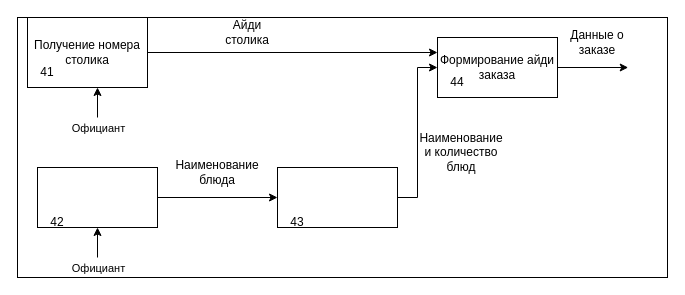
Some shapes in this 685 by 295 pixel diagram are drawn without their labels. The box of each missing label's shape, as (x1, y1, x2, y2) in pixels:
Получение выбранного блюда: (36, 166, 158, 228)
Формирование списка заказанных блюд: (276, 166, 398, 228)
